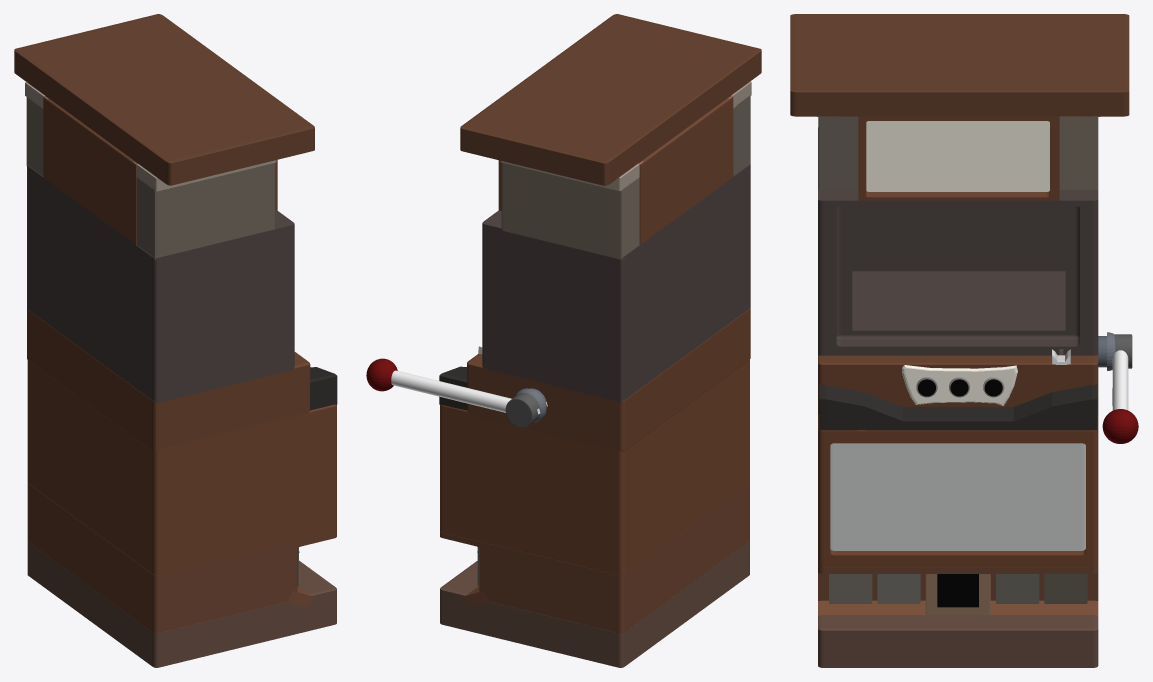
File: SlotMachine.fbx
3 views of the same model, side by side, from view 1: azimuth 30°, elevation 25°; view 2: azimuth 150°, elevation 25°; view 3: azimuth 270°, elevation 25° (orthographic). The views are drawn at different scales.
Parts seen in each view (by area): view 1: 立方体.058, 立方体.076, 立方体.051, 立方体.062, 立方体.061, 立方体.065, 立方体.054, 立方体.057, 立方体.053, 立方体.059, 立方体.055; view 2: 立方体.058, 立方体.076, 立方体.051, 立方体.062, 立方体.061, 立方体.065, 立方体.053, 立方体.057, 円柱.014, 立方体.054, 円柱.013, 球.001 (+2 smaller); view 3: 立方体.058, 立方体.051, 立方体.041, 立方体.065, 立方体.078, 立方体.076, 立方体.059, 立方体.061, 立方体.057, 立方体.062, 立方体.054, 立方体.060 (+10 smaller).
Part boxes in pixels (x1,y1,x2,y2): 立方体.058: (27, 165, 294, 402); 立方体.076: (27, 360, 336, 575); 立方体.051: (14, 14, 314, 185); 立方体.062: (27, 483, 336, 633); 立方体.061: (27, 309, 310, 451); 立方体.065: (27, 541, 336, 667); 立方体.054: (136, 163, 275, 260); 立方体.057: (43, 96, 277, 244); 立方体.053: (26, 97, 43, 175); 立方体.059: (310, 367, 337, 410); 立方体.055: (133, 160, 276, 191); 立方体.058: (482, 164, 750, 402); 立方体.076: (440, 359, 749, 575); 立方体.051: (460, 14, 761, 185); 立方体.062: (440, 482, 749, 633); 立方体.061: (467, 308, 750, 451); 立方体.065: (440, 540, 749, 667); 立方体.053: (501, 162, 639, 259); 立方体.057: (498, 95, 733, 244); 円柱.014: (391, 370, 511, 412); 立方体.054: (733, 95, 750, 175); 円柱.013: (505, 393, 540, 427); 球.001: (366, 358, 397, 391); 立方体.058: (818, 127, 1098, 355); 立方体.051: (790, 14, 1129, 116); 立方体.041: (830, 443, 1085, 550); 立方体.065: (818, 615, 1098, 667); 立方体.078: (866, 121, 1049, 191); 立方体.076: (818, 415, 1098, 567); 立方体.059: (819, 384, 1097, 430); 立方体.061: (818, 355, 1098, 414); 立方体.057: (858, 116, 1059, 200); 立方体.062: (818, 565, 1098, 600); 立方体.054: (818, 116, 858, 189); 立方体.060: (902, 365, 1017, 405).
Bounding box in the file's own units: 215 × 434 × 245.
